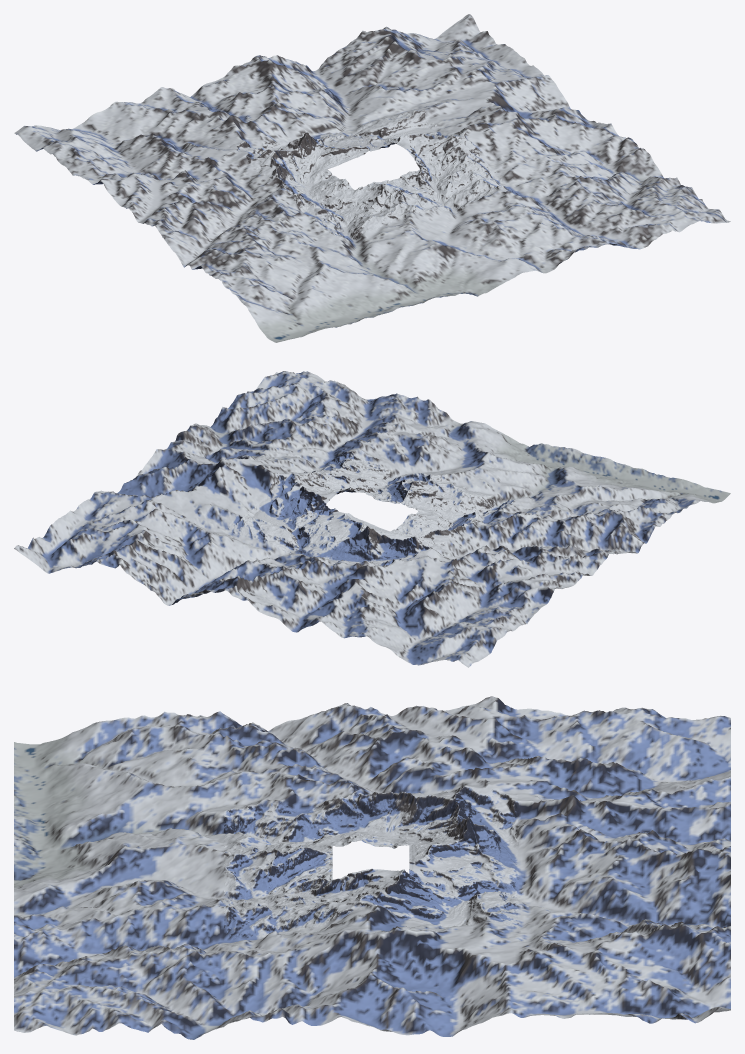
The model's file is panorama.glb.
The picture shows the model from 3 angles, top to bottom: view 1: azimuth 30°, elevation 25°; view 2: azimuth 150°, elevation 25°; view 3: azimuth 270°, elevation 25°; orthographic projection. The views are drawn at different scales.
Parts seen in each view (by area): view 1: Panorama_Far, Panorama_Detail, Panorama_Near; view 2: Panorama_Far, Panorama_Near, Panorama_Detail; view 3: Panorama_Far, Panorama_Near, Panorama_Detail.
Part boxes in pixels (x1,y1,x2,y2): Panorama_Far: (14, 14, 730, 342); Panorama_Detail: (275, 123, 478, 229); Panorama_Near: (227, 109, 514, 243); Panorama_Far: (14, 371, 730, 667); Panorama_Near: (226, 451, 518, 567); Panorama_Detail: (272, 465, 473, 555); Panorama_Far: (14, 696, 730, 1039); Panorama_Near: (224, 786, 518, 940); Panorama_Detail: (265, 802, 477, 913).
Size of the model in its own units: 43800 by 4218 by 43800.
